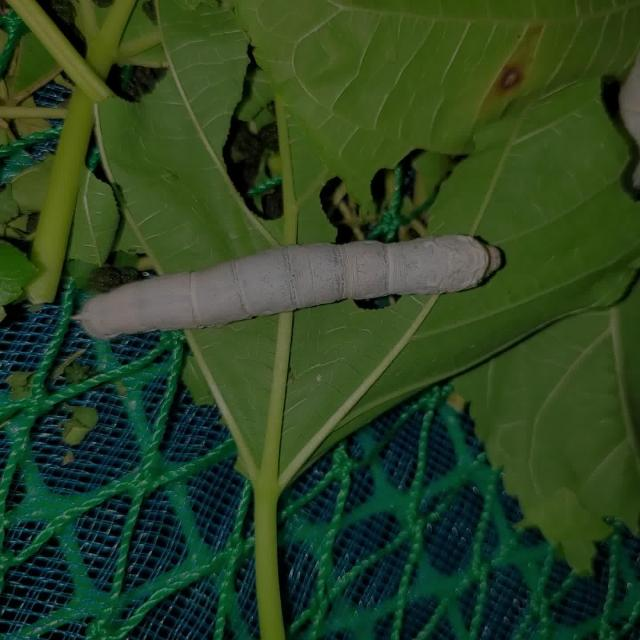Healthy: (43, 206, 545, 386)
